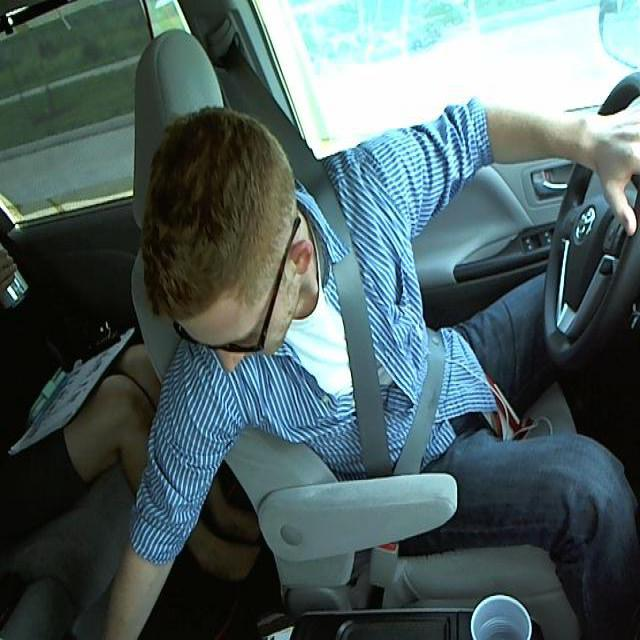seatbelt: (317, 197, 455, 463)
